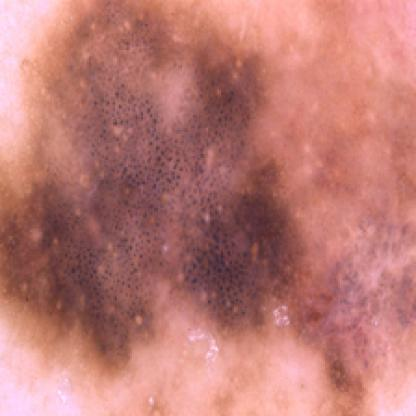benign: (4, 13, 403, 368)
